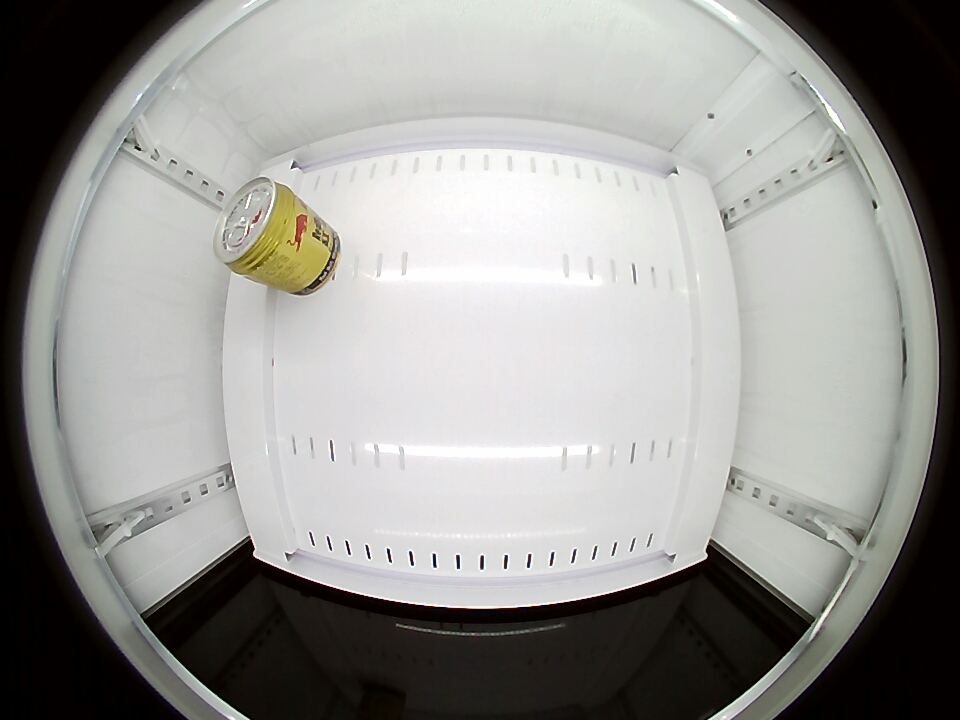hongniu2: (213, 176, 304, 277)
